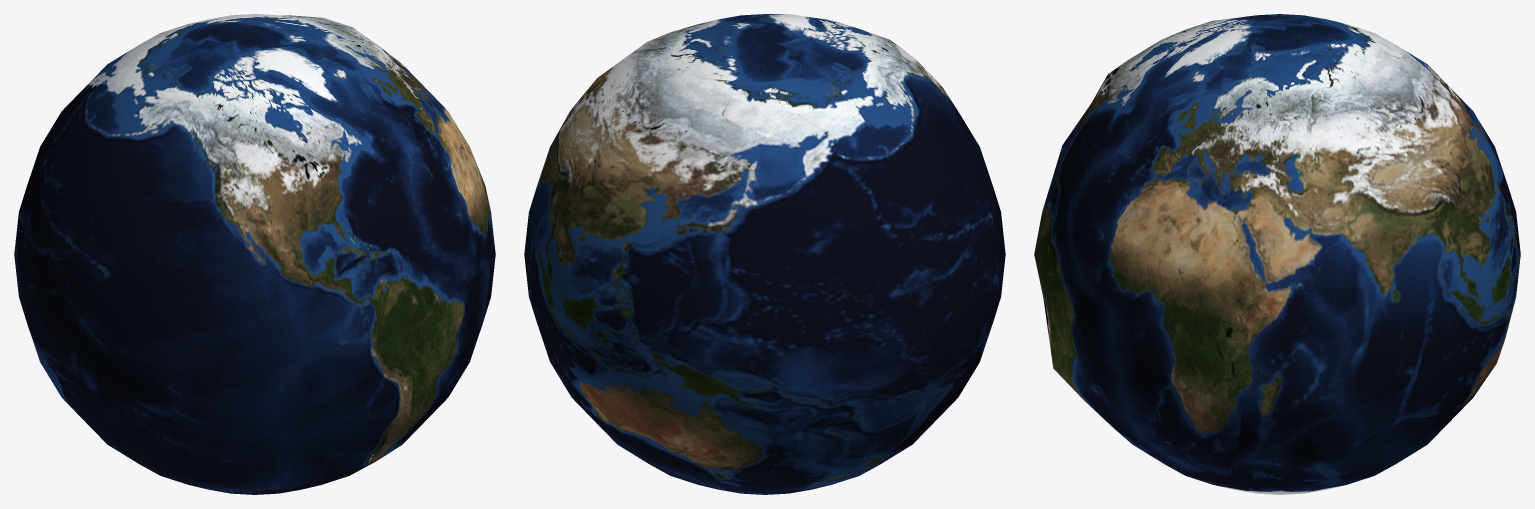
The model's file is Earth.glb.
3 renders of one model, left to right at view 1: azimuth 30°, elevation 25°; view 2: azimuth 150°, elevation 25°; view 3: azimuth 270°, elevation 25°, orthographic.
Visible parts, largest first — view 1: Earth; view 2: Earth; view 3: Earth.
Boxes of the visible parts, bbox=[...] form: Earth: bbox=[14, 14, 495, 494]; Earth: bbox=[524, 14, 1005, 494]; Earth: bbox=[1034, 14, 1520, 494].
Bounding box in the file's own units: 10 × 10 × 10.11.
1 material, 1 textured.
